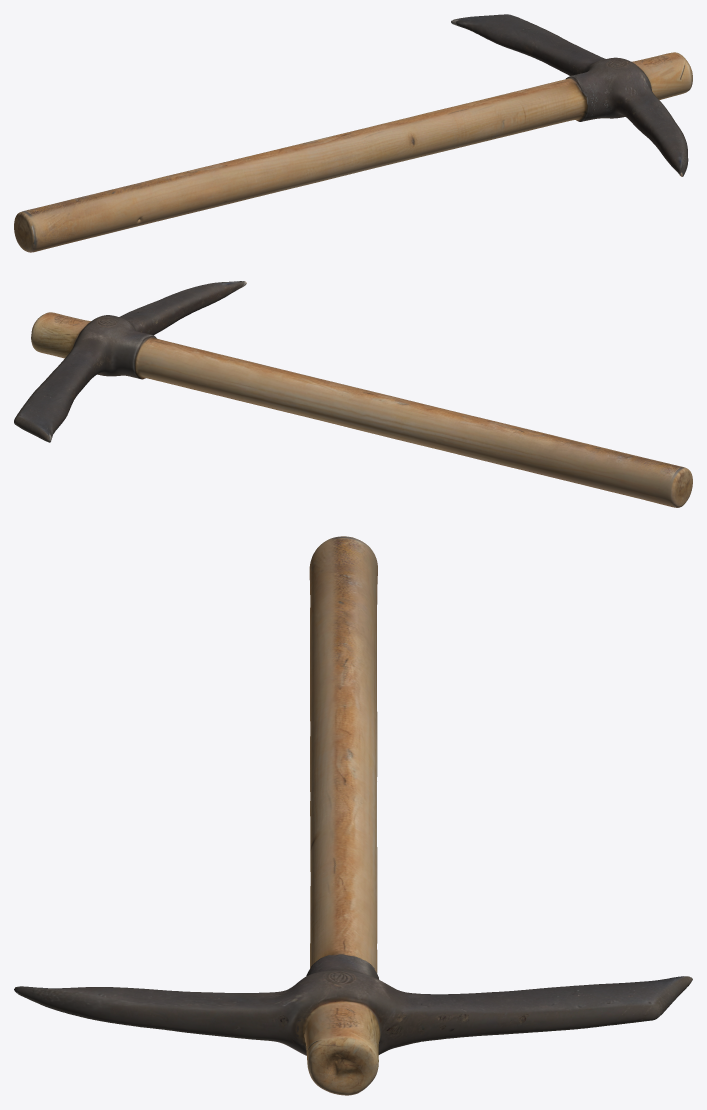
File: Meshy_AI_Pickaxe_Tool_0901063114_texture.fbx
3 renders of one model, top to bottom at view 1: azimuth 30°, elevation 25°; view 2: azimuth 150°, elevation 25°; view 3: azimuth 270°, elevation 25°, orthographic. The views are drawn at different scales.
Visible parts, largest first — view 1: Mesh_0; view 2: Mesh_0; view 3: Mesh_0.
Part boxes in pixels (<box>): Mesh_0: <box>14,14,692,252</box>; Mesh_0: <box>14,281,692,507</box>; Mesh_0: <box>14,536,692,1095</box>.
Size of the model in its own units: 199 by 14.4 by 113.
Materials: 1 (1 with a texture image).
